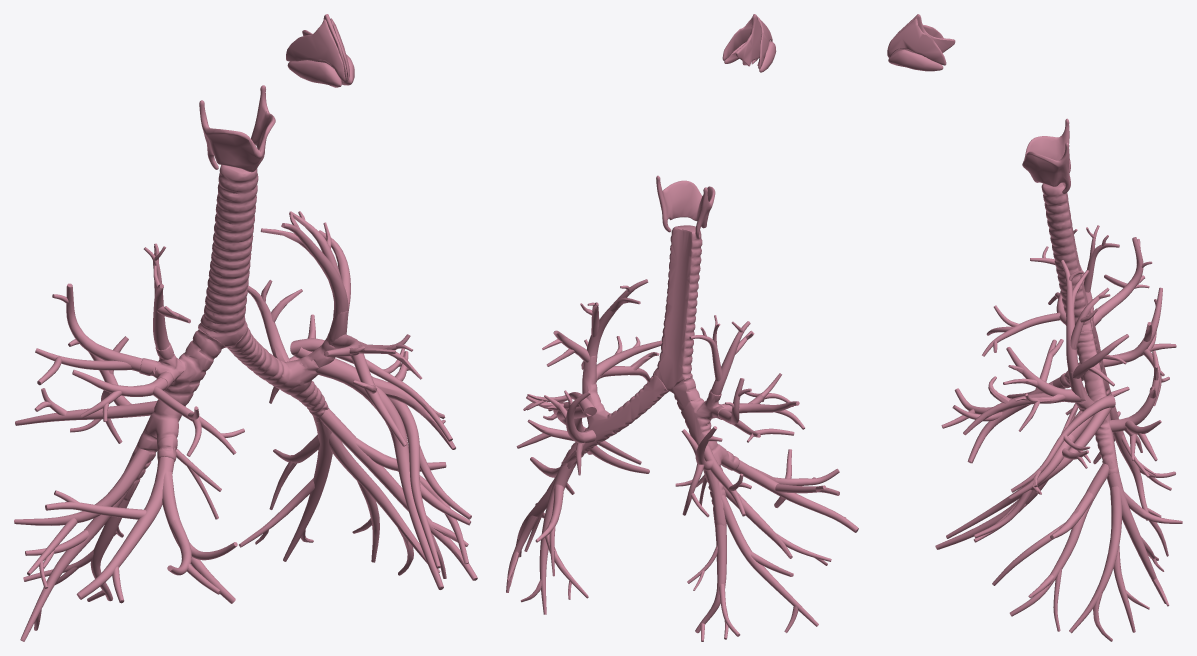
The model's file is respiratory.glb.
The picture shows the model from 3 angles, left to right: view 1: azimuth 30°, elevation 25°; view 2: azimuth 150°, elevation 25°; view 3: azimuth 270°, elevation 25°; orthographic projection. The views are drawn at different scales.
Visible parts, largest first — view 1: lungs, main-bronchi, trachea, nasal-cartilage, thyroid-cartilage; view 2: lungs, main-bronchi, trachea, thyroid-cartilage, nasal-cartilage; view 3: lungs, trachea, main-bronchi, nasal-cartilage, thyroid-cartilage.
Part boxes in pixels (x1,y1,x2,y2): lungs: (14,211,477,641); main-bronchi: (124,309,348,500); trachea: (198,165,258,347); nasal-cartilage: (286,14,354,87); thyroid-cartilage: (199,85,275,172); lungs: (506,279,858,641); main-bronchi: (561,355,739,525); trachea: (654,225,702,391); thyroid-cartilage: (656,175,715,238); nasal-cartilage: (722,14,776,72); lungs: (935,225,1182,641); trachea: (1041,182,1092,333); main-bronchi: (1060,306,1118,474); nasal-cartilage: (887,14,955,71); thyroid-cartilage: (1022,118,1070,193).
Size of the model in its own units: 0.4788 by 0.776 by 0.3763.
